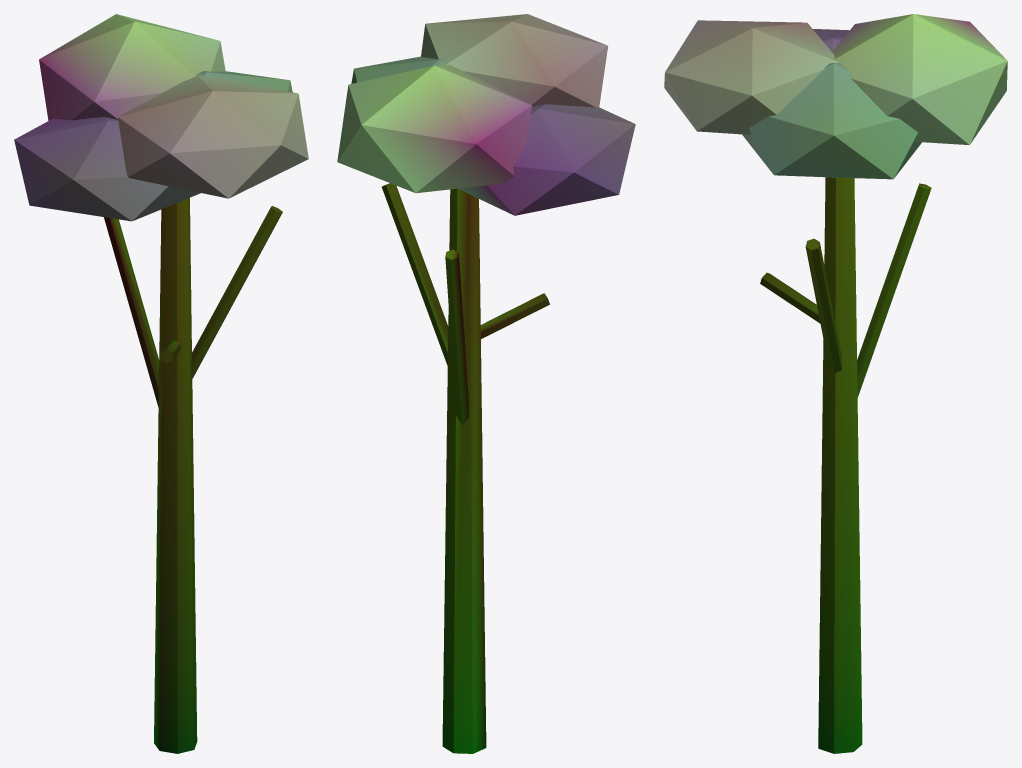
Rendered from broadleaf_06.glb.
3 renders of one model, left to right at view 1: azimuth 30°, elevation 25°; view 2: azimuth 150°, elevation 25°; view 3: azimuth 270°, elevation 25°, orthographic. The views are drawn at different scales.
Visible parts, largest first — view 1: broadleaf_06; view 2: broadleaf_06; view 3: broadleaf_06.
Boxes of the visible parts, left/top/right/bottom form: broadleaf_06: left=14, top=14, right=308, bottom=753; broadleaf_06: left=337, top=14, right=635, bottom=753; broadleaf_06: left=664, top=14, right=1007, bottom=753.
Bounding box in the file's own units: 2.22 × 5.67 × 2.43.
